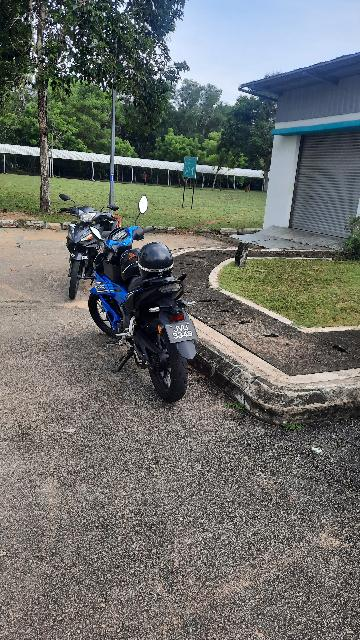License_Plate: (164, 322, 202, 344)
motorcycle: (86, 194, 207, 406)
